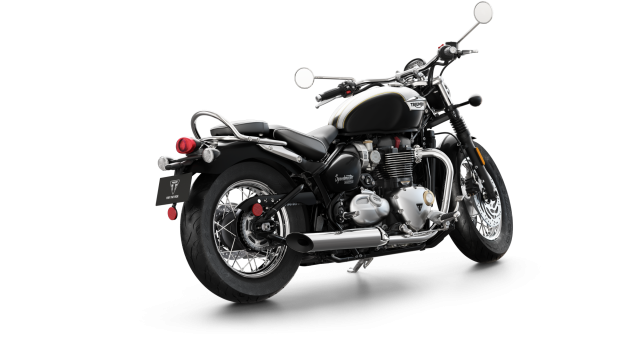motorcycle: (156, 56, 517, 301)
